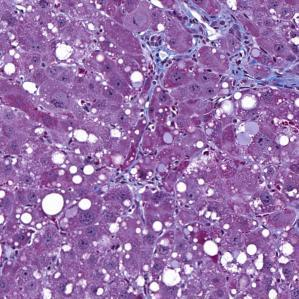fibrosis: (174, 3, 244, 46), (143, 34, 181, 69)
